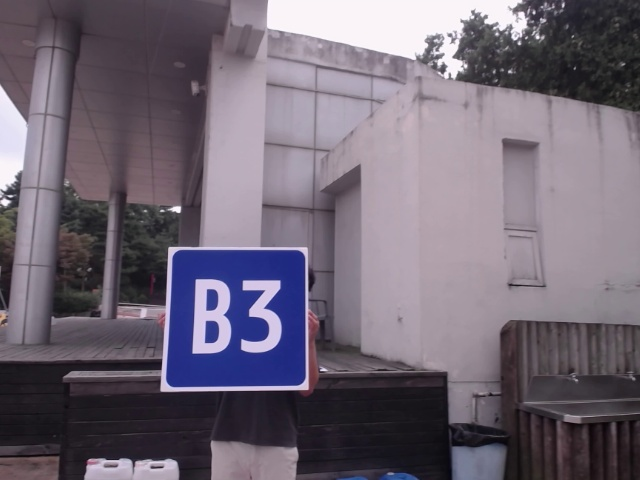delivery_b3: (168, 246, 308, 389)
